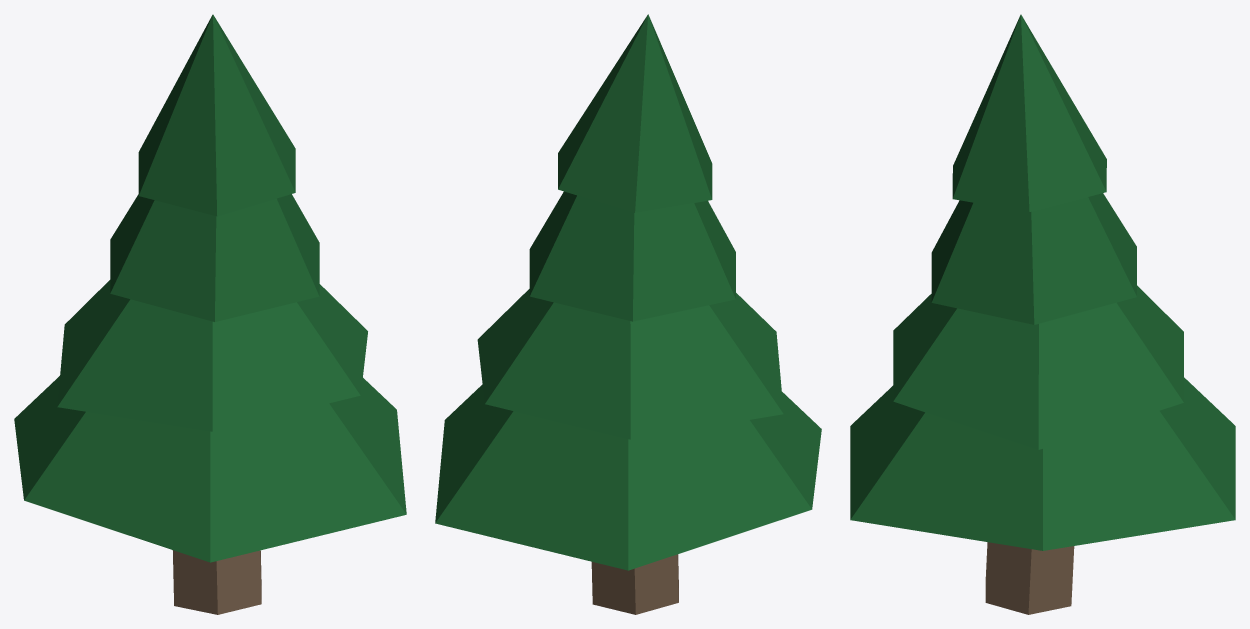
The model's file is Hilly_Prop_Tree_Pine_1.obj.
3 views of the same model, side by side, from view 1: azimuth 30°, elevation 25°; view 2: azimuth 150°, elevation 25°; view 3: azimuth 270°, elevation 25° (orthographic).
Parts seen in each view (by area): view 1: object1, object3, object5, object4, object2; view 2: object1, object3, object5, object4, object2; view 3: object1, object3, object5, object4, object2.
Boxes of the visible parts, x1,y1,x2,y2 form: object1: (14, 376, 406, 562); object3: (57, 280, 367, 431); object5: (110, 194, 319, 321); object4: (138, 14, 295, 216); object2: (172, 550, 261, 614); object1: (435, 384, 821, 570); object3: (477, 289, 783, 439); object5: (529, 191, 735, 321); object4: (558, 14, 712, 212); object2: (591, 554, 678, 614); object1: (850, 377, 1235, 550); object3: (893, 285, 1183, 449); object5: (931, 193, 1136, 324); object4: (952, 14, 1106, 211); object2: (985, 542, 1074, 614).
Bounding box in the file's own units: 2.38 × 3.58 × 2.17.
